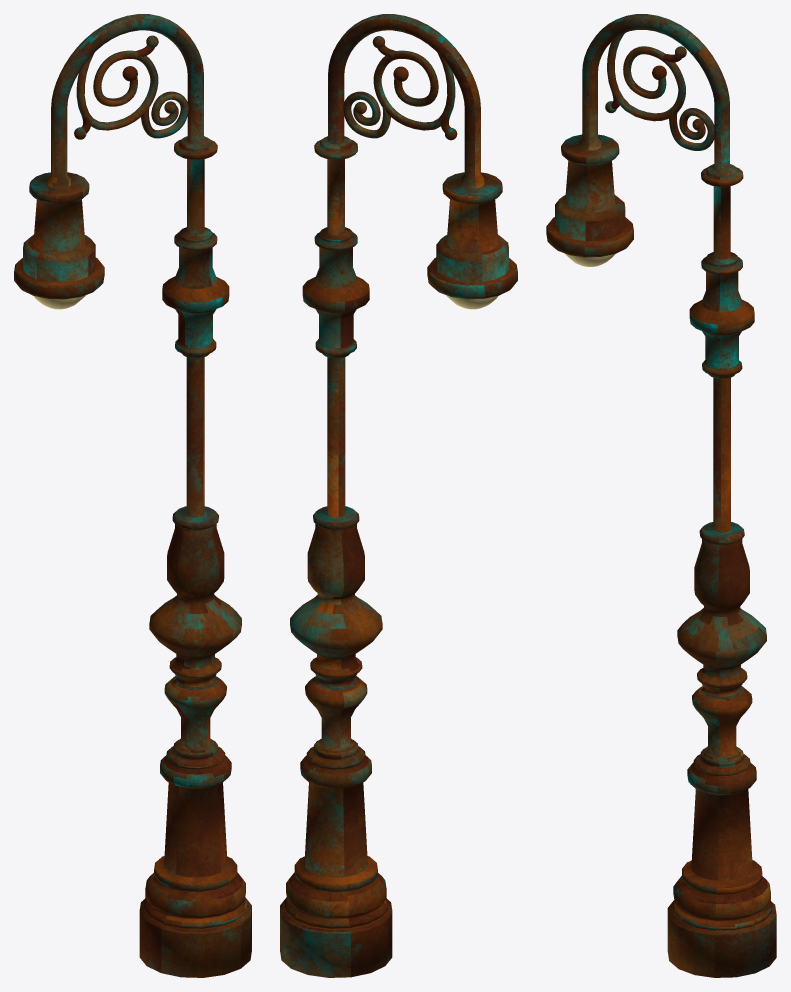
The model's file is lamp.obj.
3 views of the same model, side by side, from view 1: azimuth 30°, elevation 25°; view 2: azimuth 150°, elevation 25°; view 3: azimuth 330°, elevation 25° (orthographic). The views are drawn at different scales.
Visible parts, largest first — view 1: body; view 2: body; view 3: body.
Boxes of the visible parts, x1,y1,x2,y2 form: body: [14, 14, 251, 977]; body: [280, 14, 517, 977]; body: [546, 14, 776, 977].
Size of the model in its own units: 1.11 by 4.49 by 0.4852.
